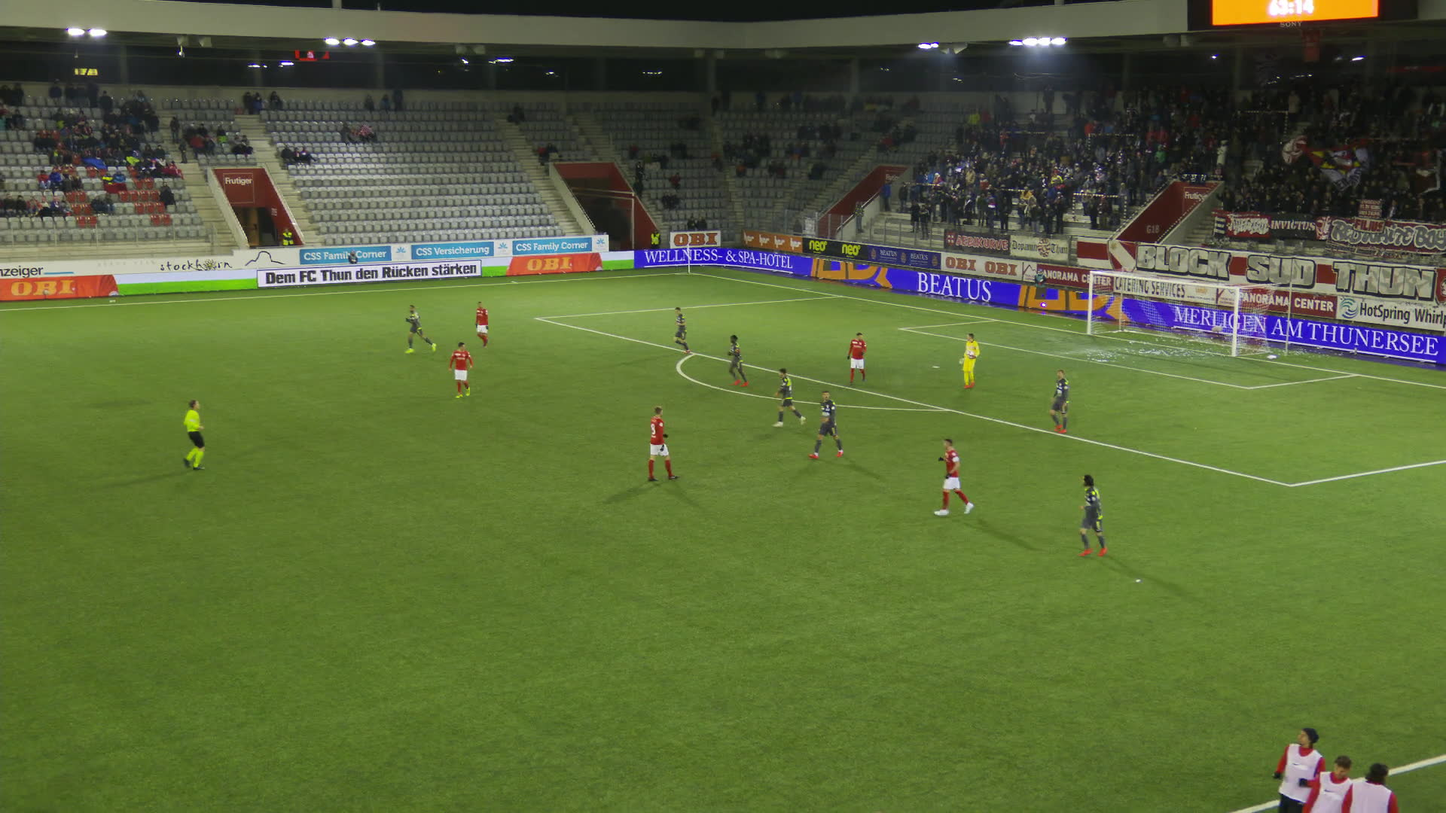ball: (965, 350, 975, 358)
player: (932, 437, 973, 516), (646, 406, 678, 482), (807, 391, 843, 458), (1079, 475, 1107, 558), (771, 369, 807, 427), (1046, 370, 1072, 434), (404, 305, 437, 355), (448, 343, 473, 399), (959, 332, 980, 388), (727, 333, 749, 386), (846, 332, 867, 385), (474, 300, 492, 348), (673, 306, 691, 353)
referee: (182, 398, 206, 470)
